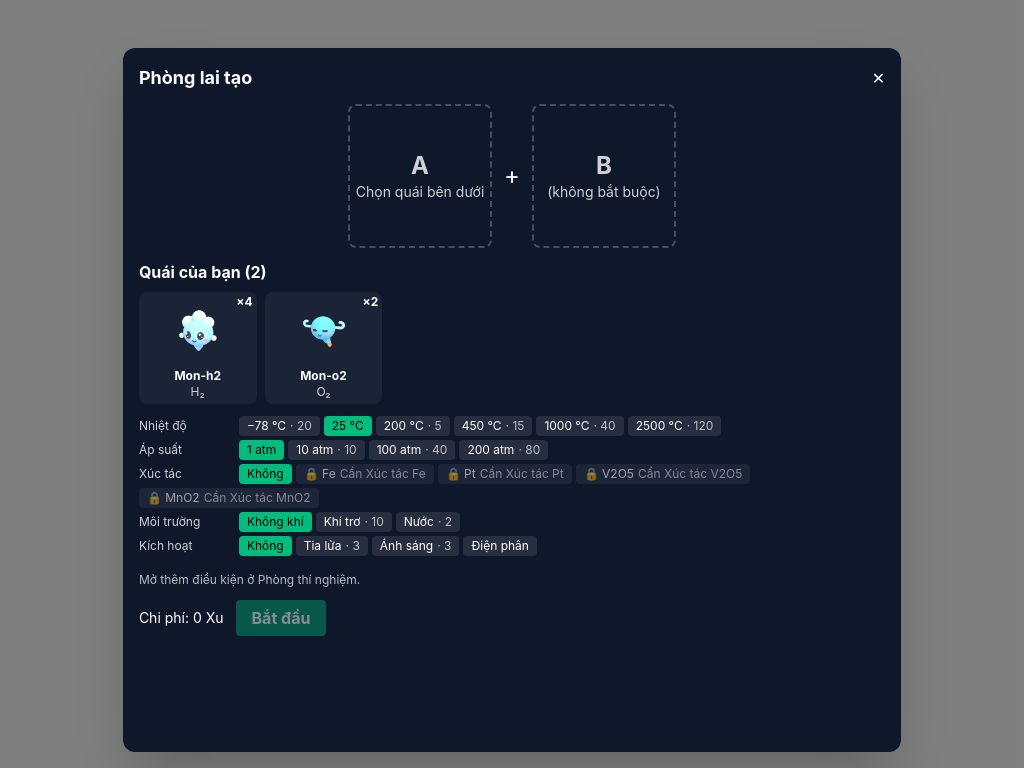
fee line updates when 1000 °C and Tia lửa are picked (0 → 43)
Check: the text with test id "breeding-fee" reads "Chi phí: 0 Xu", box [139,608,224,628]
Click the button "1000 °C· 40": (580, 426) [536,416,624,436]
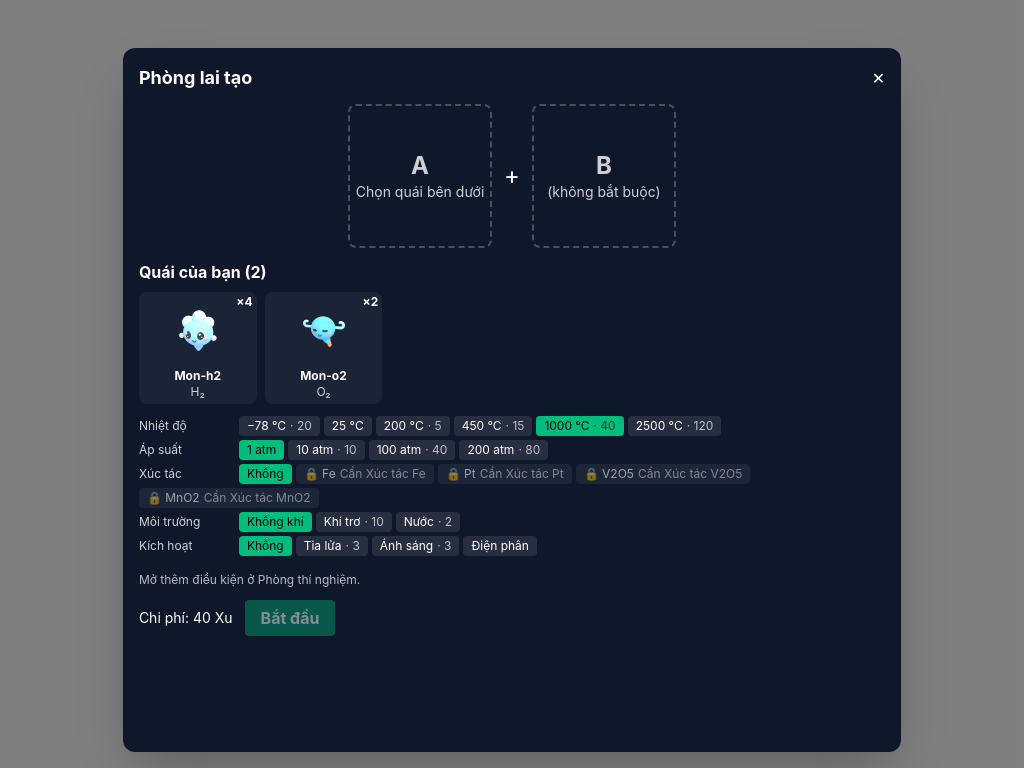
Click the button "Tia lửa· 3": (332, 546) [296,536,368,556]
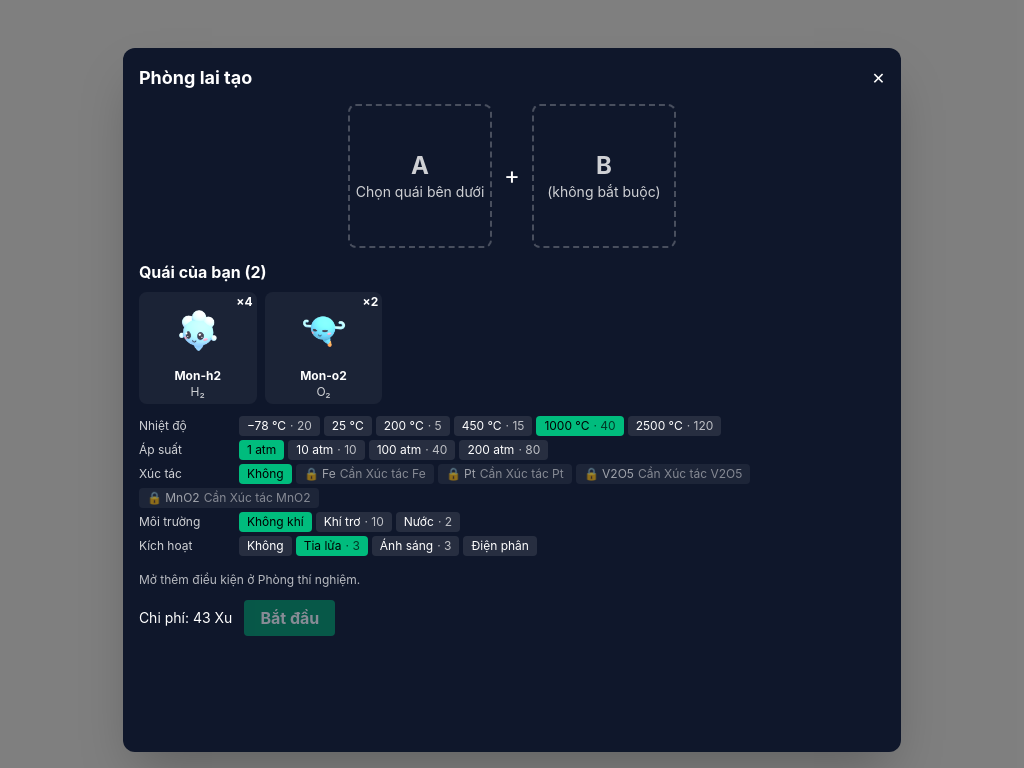
Check: the text with test id "breeding-fee" reads "Chi phí: 43 Xu", box [139,608,232,628]
